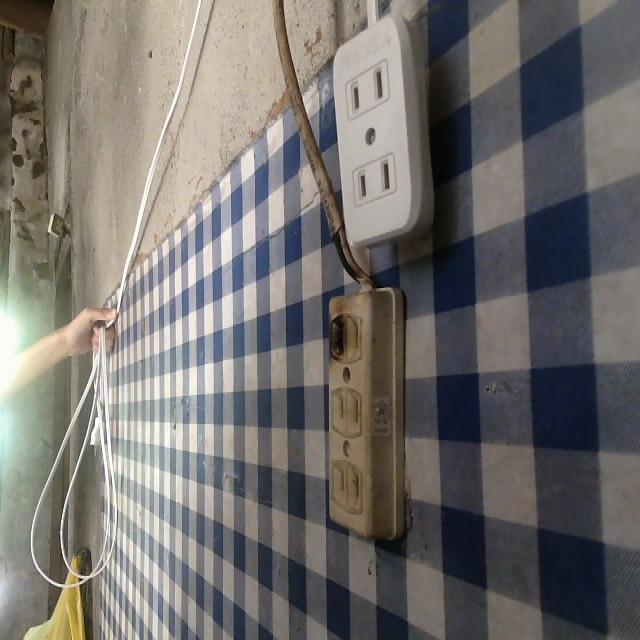-: (321, 301, 350, 367)
